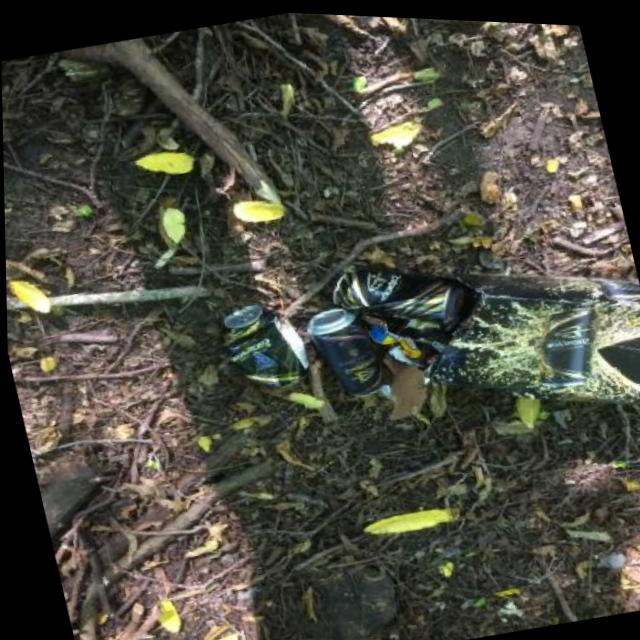cardboard: (410, 235, 640, 450)
metal: (325, 245, 471, 346), (217, 295, 314, 400), (302, 300, 389, 405)
plastic: (358, 303, 426, 379)
